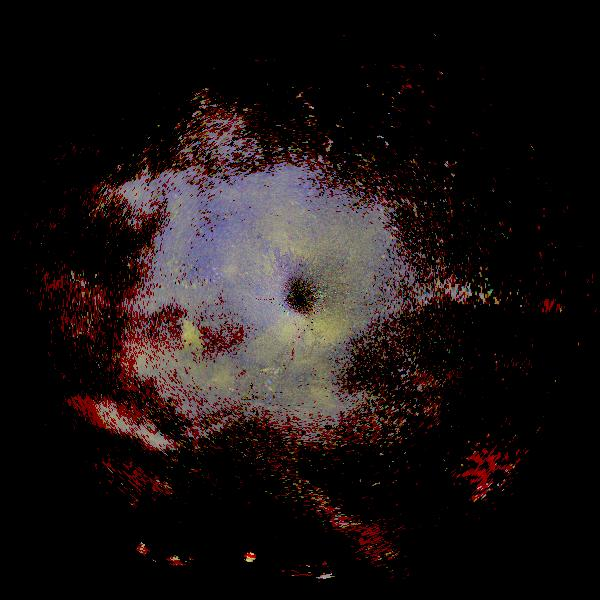roost: (106, 300, 235, 429)
